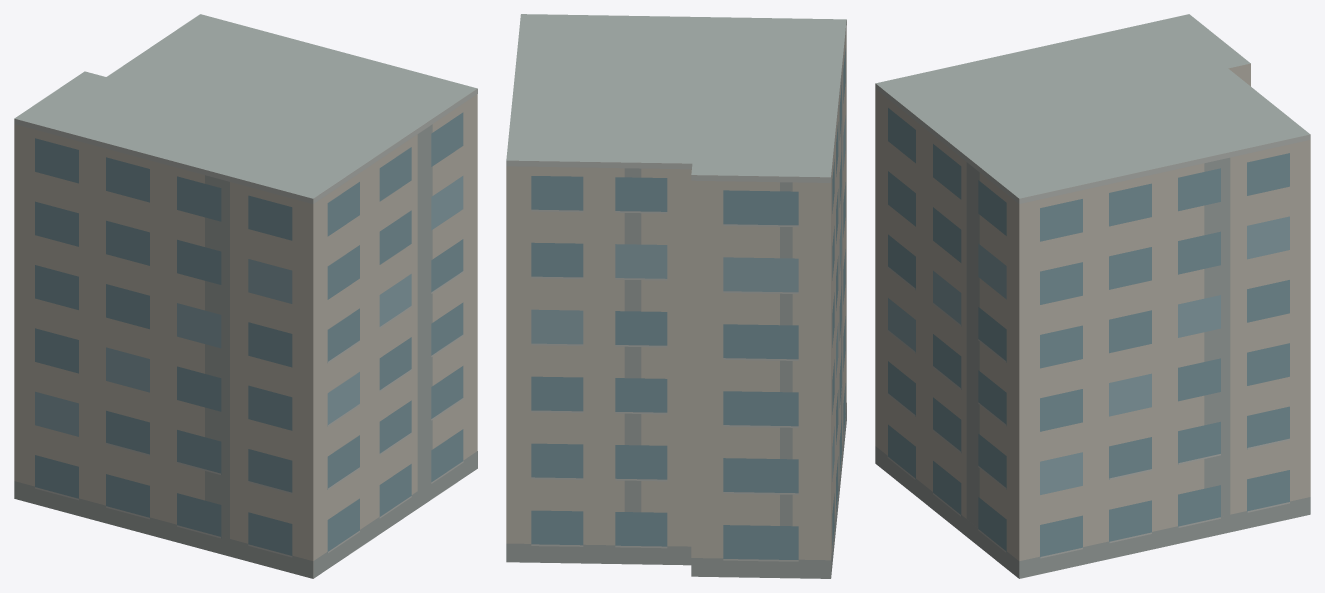
File: survey-upis-32842054.glb
The picture shows the model from 3 angles, left to right: view 1: azimuth 30°, elevation 25°; view 2: azimuth 150°, elevation 25°; view 3: azimuth 270°, elevation 25°; orthographic projection. The views are drawn at different scales.
Parts seen in each view (by area): view 1: survey-upis-32842054.tmp; view 2: survey-upis-32842054.tmp; view 3: survey-upis-32842054.tmp.
Boxes of the visible parts, left/top/right/bottom form: survey-upis-32842054.tmp: left=14, top=14, right=477, bottom=578; survey-upis-32842054.tmp: left=506, top=14, right=846, bottom=578; survey-upis-32842054.tmp: left=875, top=14, right=1310, bottom=578.
Size of the model in its own units: 17.83 by 17.1 by 17.75.
